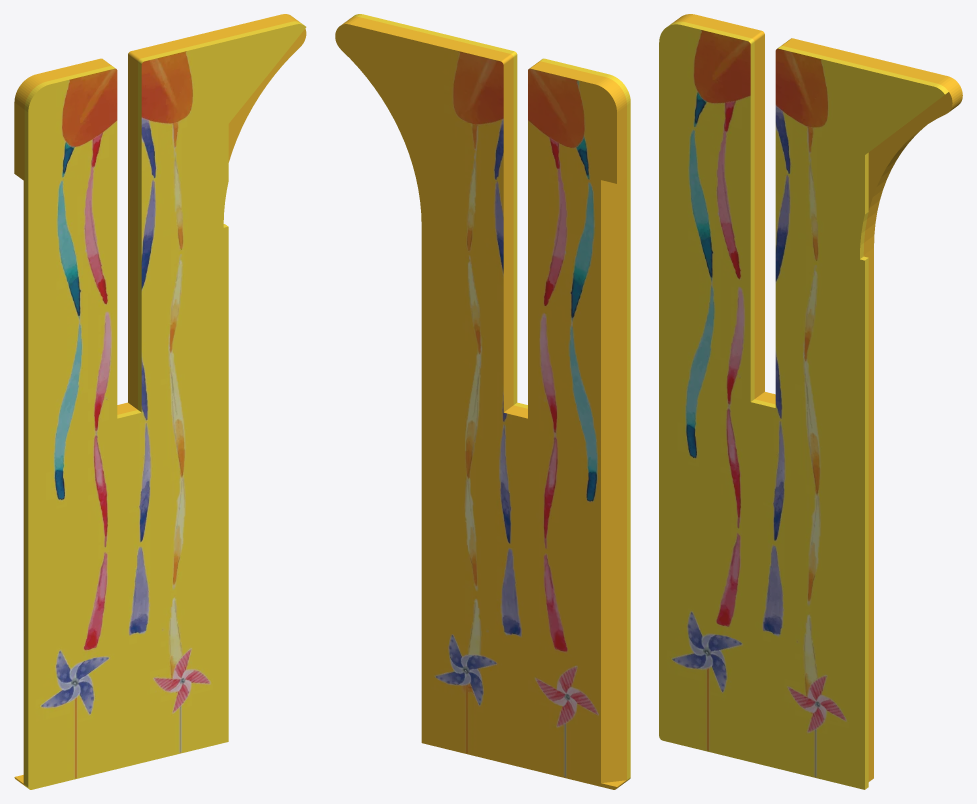
File: door-right.glb
3 renders of one model, left to right at view 1: azimuth 30°, elevation 25°; view 2: azimuth 150°, elevation 25°; view 3: azimuth 330°, elevation 25°, orthographic. The views are drawn at different scales.
Parts seen in each view (by area): view 1: door-right; view 2: door-right; view 3: door-right.
Part boxes in pixels (bbox=[...]): door-right: bbox=[14, 14, 306, 789]; door-right: bbox=[335, 14, 630, 789]; door-right: bbox=[659, 14, 962, 789].
Size of the model in its own units: 389 by 925 by 33.
Materials: 4 (2 with a texture image).
